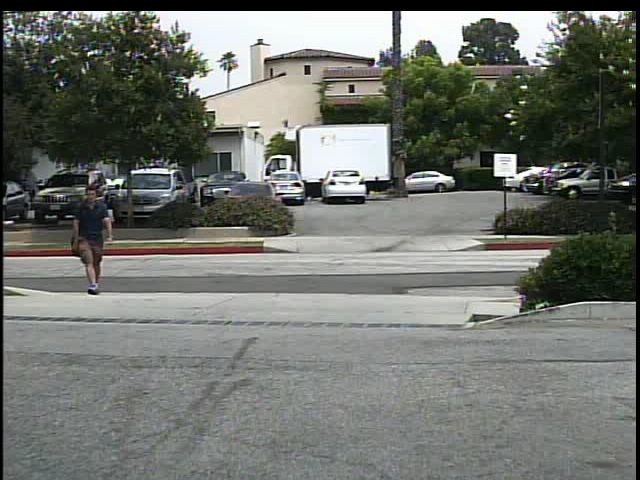person: (72, 184, 121, 296)
